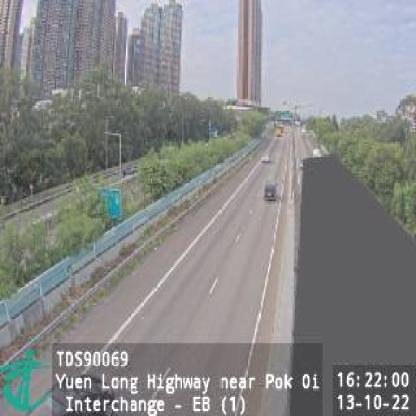Car: (262, 179, 278, 200), (263, 152, 271, 164)
